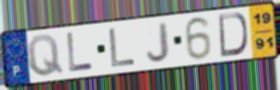6: (184, 14, 213, 61)
D: (217, 12, 250, 59)
J: (145, 20, 171, 63)
L: (107, 26, 138, 69), (65, 32, 95, 74)
Q: (26, 33, 66, 78)
